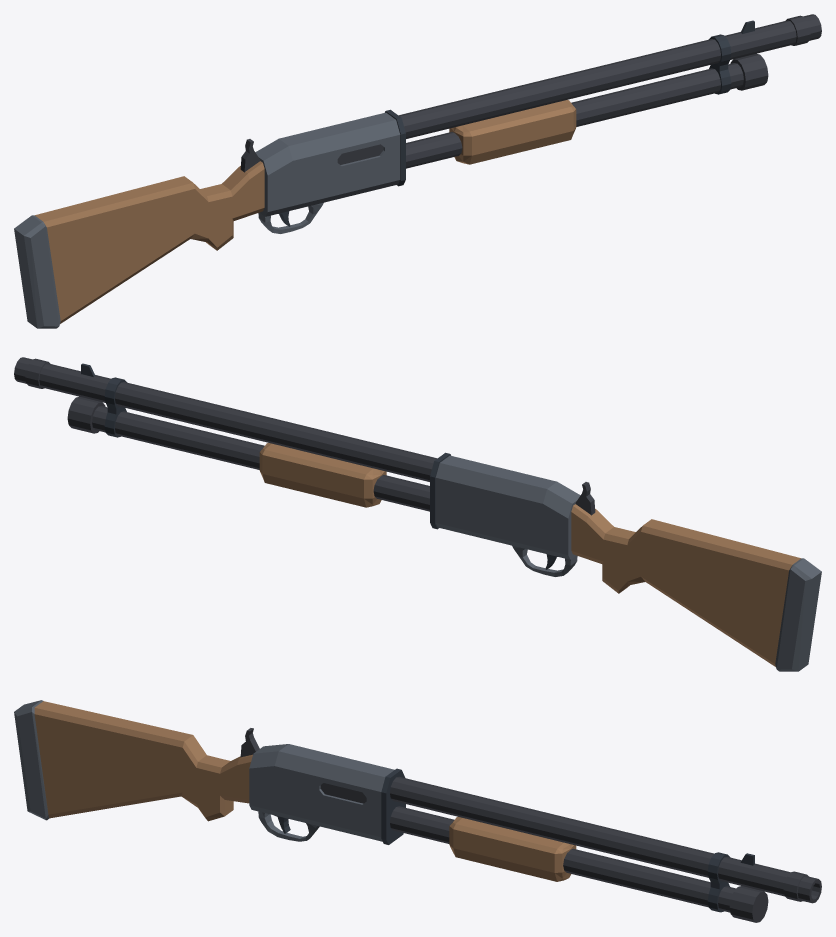
Rendered from shotgun.dae.
3 renders of one model, top to bottom at view 1: azimuth 30°, elevation 25°; view 2: azimuth 150°, elevation 25°; view 3: azimuth 330°, elevation 25°, orthographic.
Visible parts, largest first — view 1: shotgun; view 2: shotgun; view 3: shotgun.
Boxes of the visible parts, x1,y1,x2,y2 form: shotgun: (14, 14, 821, 328); shotgun: (14, 357, 821, 671); shotgun: (14, 700, 821, 922).
Size of the model in its own units: 1 by 0.0426 by 0.163.
